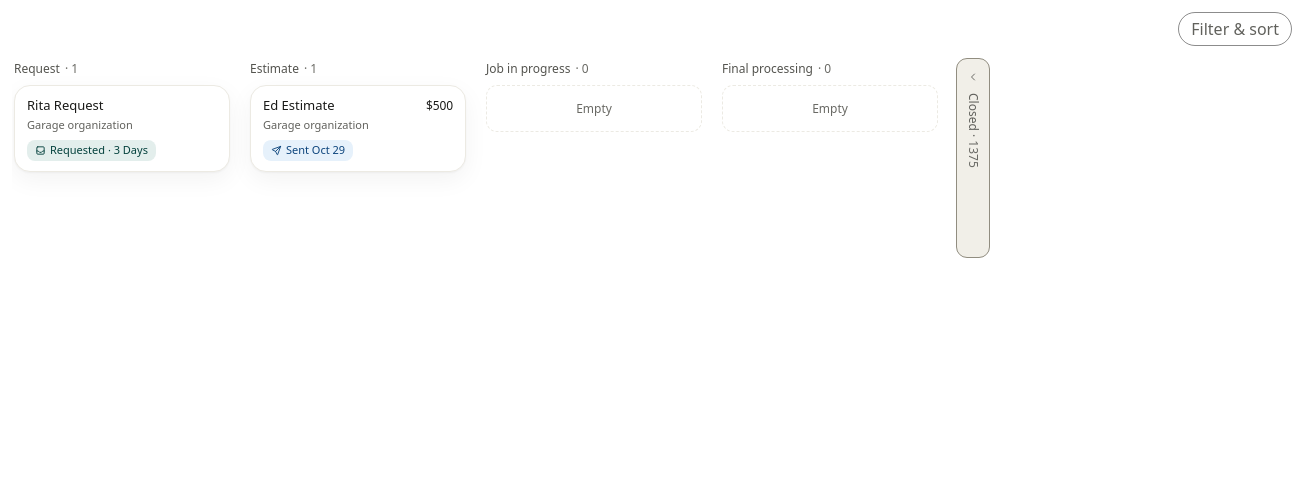
board closed rail › each segment fetches its OWN server-narrowed capped window; revisits hit the cache
Click the button with aria-label "Expand closed engagements".
click(973, 158)  # box [956,58,990,258]
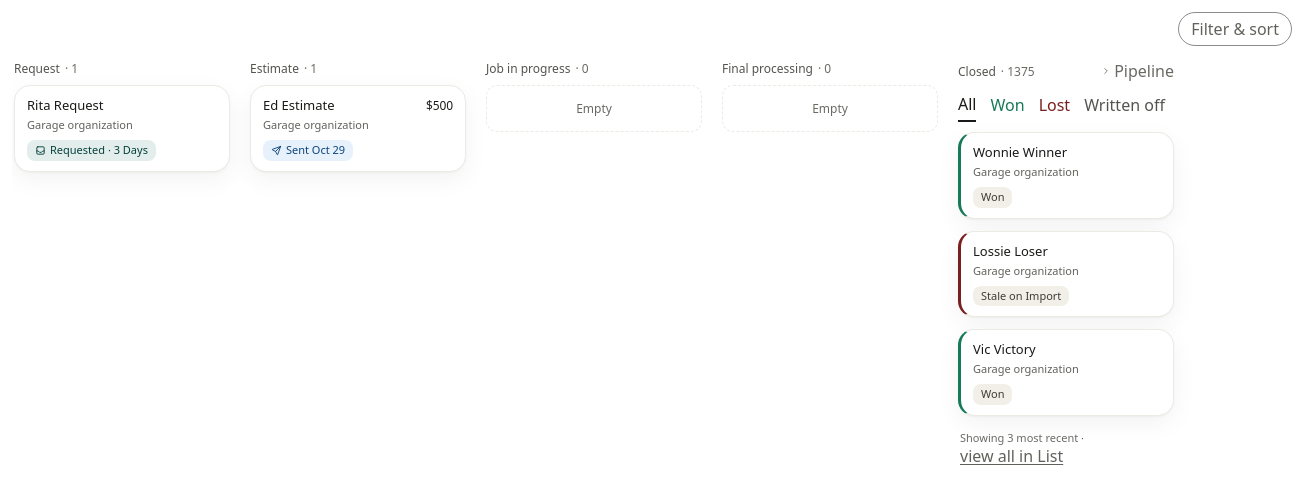
expect the text "Wonnie Winner" is shown: met, box [973,143,1067,161]
expect the text "Lossie Loser" is shown: met, box [973,242,1048,260]
expect the text "Showing 3 most recent" is shown: met, box [960,430,1084,466]
Click the button with class "bee-flt-seg" showing "Won".
click(1008, 106)  # box [990,90,1025,122]
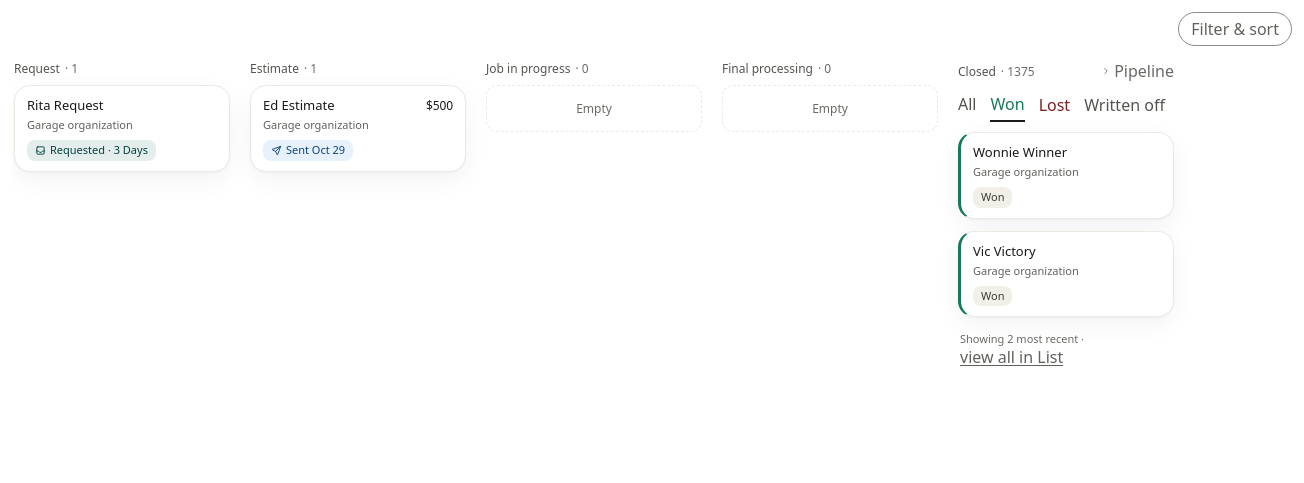
expect the text "Wonnie Winner" is shown: met, box [973,143,1067,161]
expect the text "Vic Victory" is shown: met, box [973,242,1036,260]
expect the text "Lossie Loser" is gone: met
Click the button with class "bee-flt-seg" showing "Lost".
click(1054, 106)  # box [1039,90,1070,122]
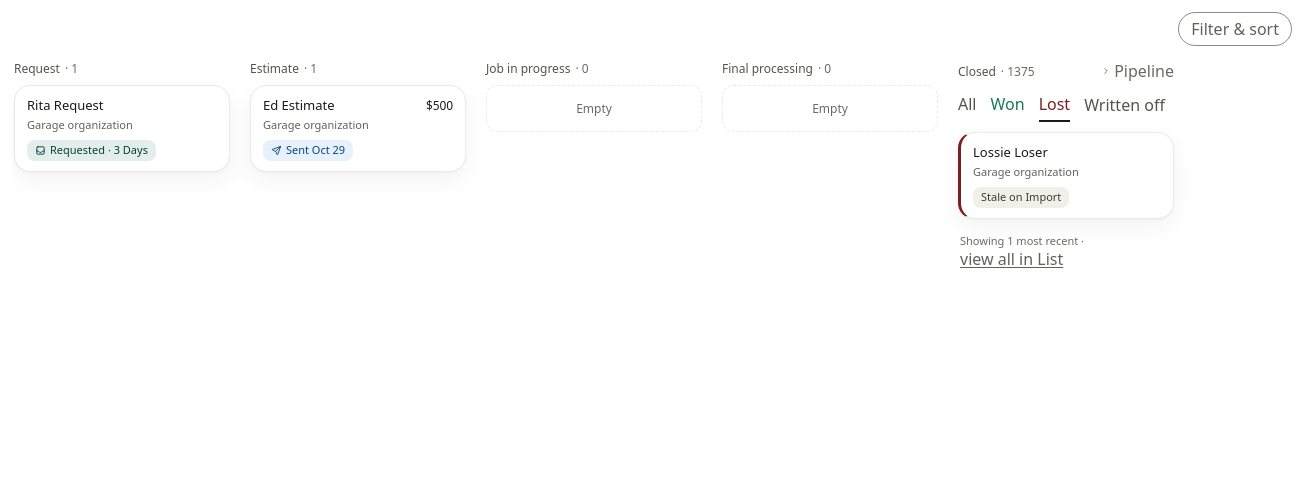
expect the text "Lossie Loser" is shown: met, box [973,143,1048,161]
expect the text "Wonnie Winner" is gone: met
Click the button with class "bee-flt-seg" showing "Won".
click(1008, 106)  # box [990,90,1025,122]
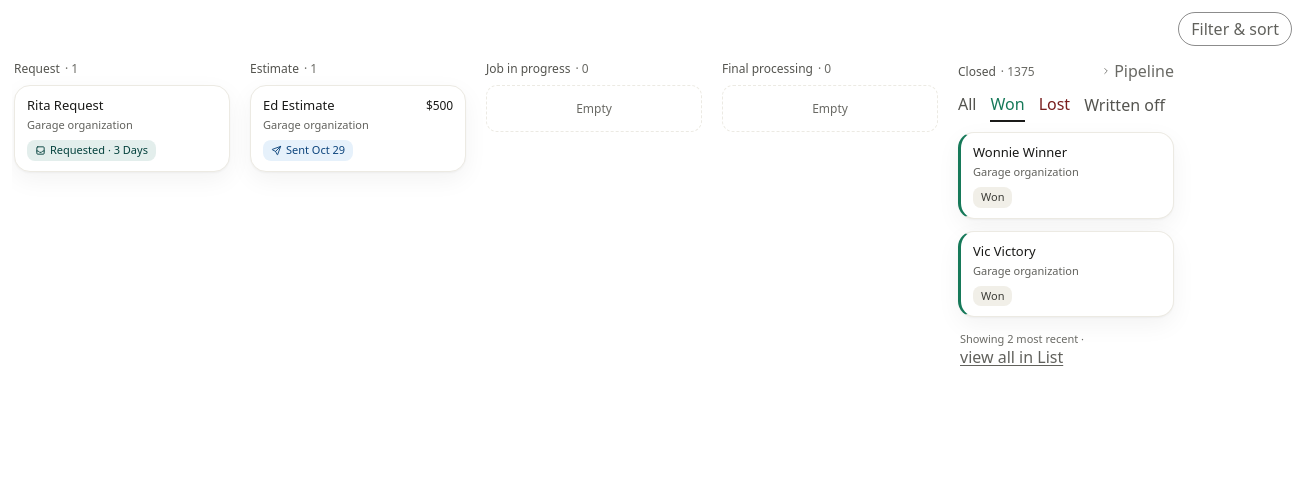
Click the button with class "bee-flt-seg" showing "All".
click(967, 106)  # box [958,90,976,122]
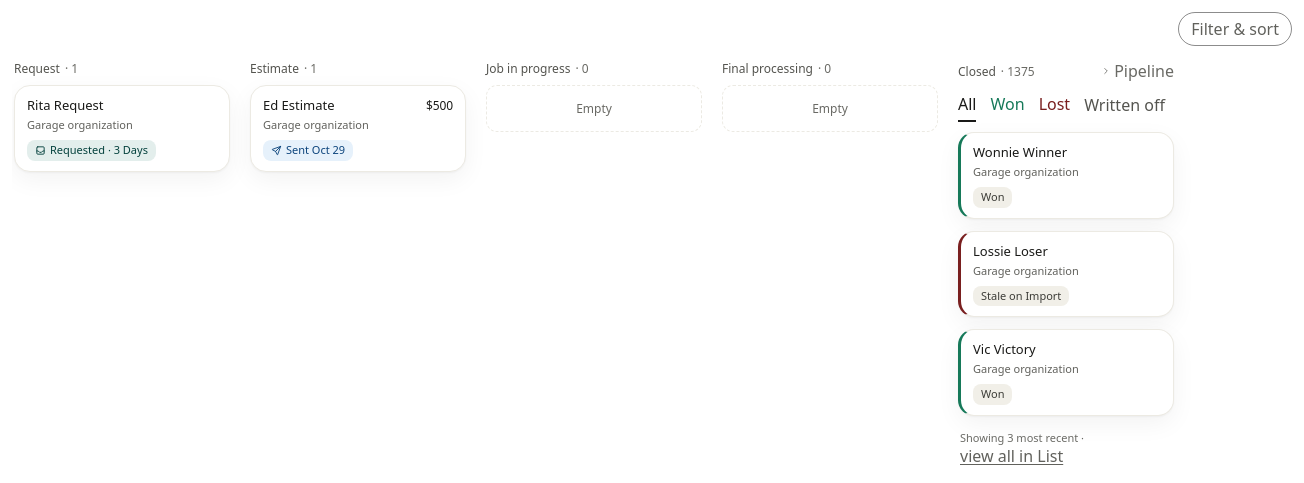
Click the button with aria-label "Collapse to pipeline".
click(1138, 71)  # box [1101,60,1174,82]
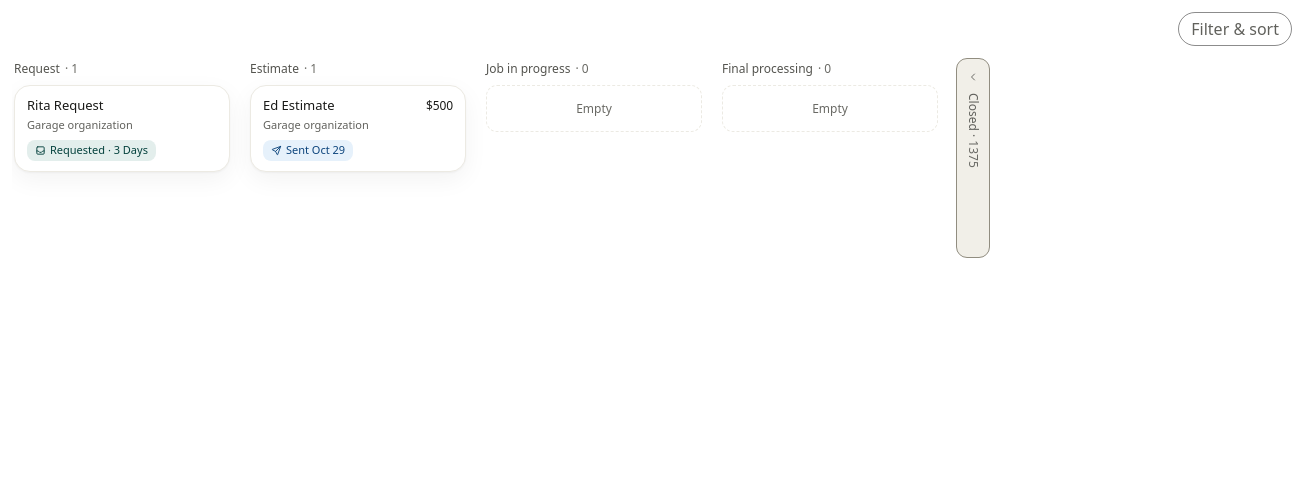
expect the button with aria-label "Expand closed engagements" is shown: met, box [956,58,990,258]
